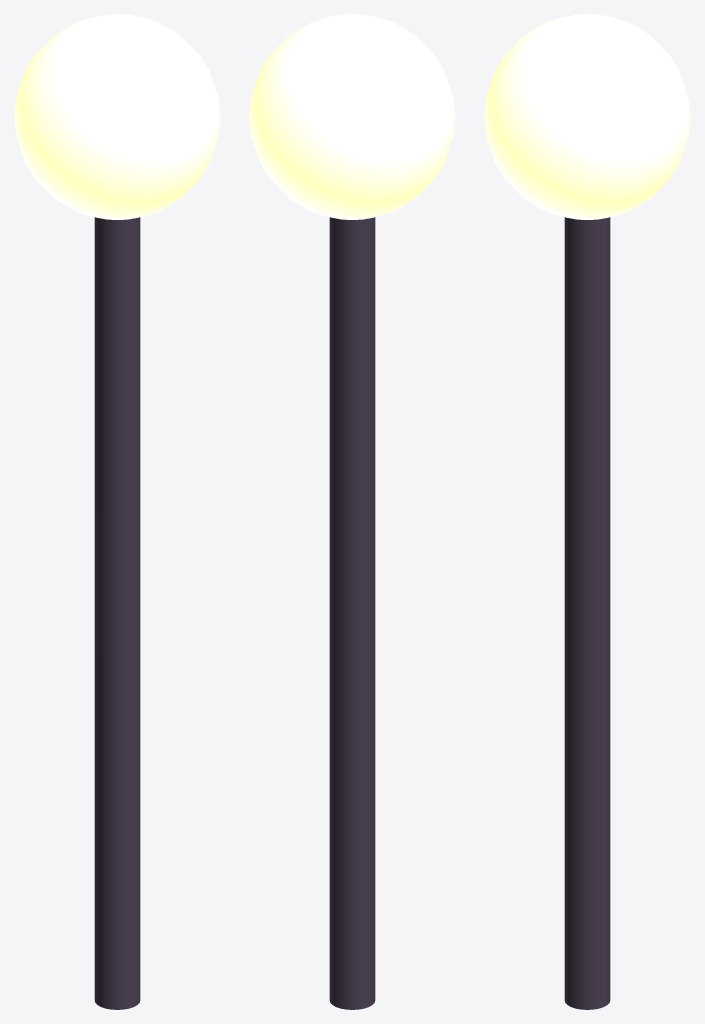
The model's file is gs_lamp.gltf.
3 views of the same model, side by side, from view 1: azimuth 30°, elevation 25°; view 2: azimuth 150°, elevation 25°; view 3: azimuth 270°, elevation 25° (orthographic).
Visible parts, largest first — view 1: gs_lamp; view 2: gs_lamp; view 3: gs_lamp.
Part boxes in pixels (x1,y1,x2,y2): gs_lamp: (14, 14, 220, 1009); gs_lamp: (249, 14, 455, 1009); gs_lamp: (484, 14, 690, 1009).
Bounding box in the file's own units: 0.36 × 1.88 × 0.36.
